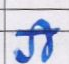i_matra: (36, 19, 52, 61)
